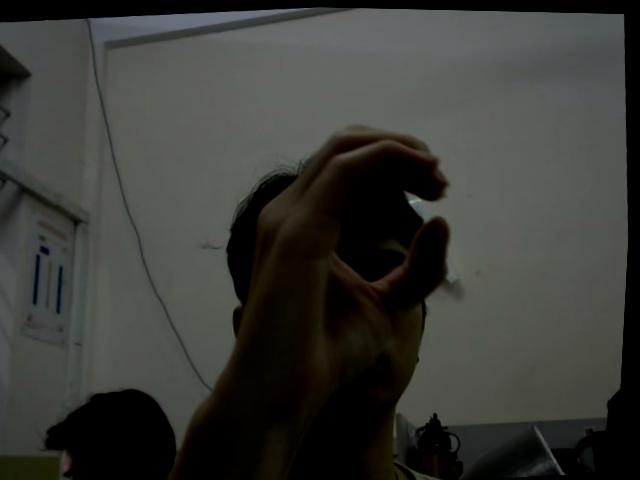C: (226, 111, 470, 401)
